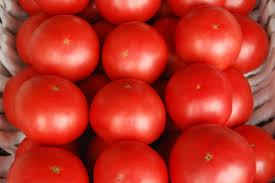tomato: (91, 80, 167, 145), (19, 76, 90, 142), (168, 125, 252, 179), (164, 66, 235, 128), (29, 17, 100, 78), (101, 23, 168, 84), (176, 8, 242, 69), (91, 141, 168, 179), (9, 146, 88, 180), (235, 122, 274, 180), (221, 67, 256, 128), (238, 16, 270, 75)
